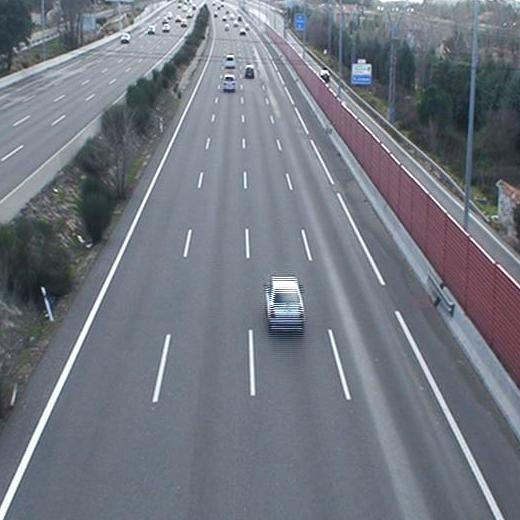car: (263, 276, 306, 335), (221, 74, 237, 94), (224, 53, 237, 70), (244, 65, 256, 81)
